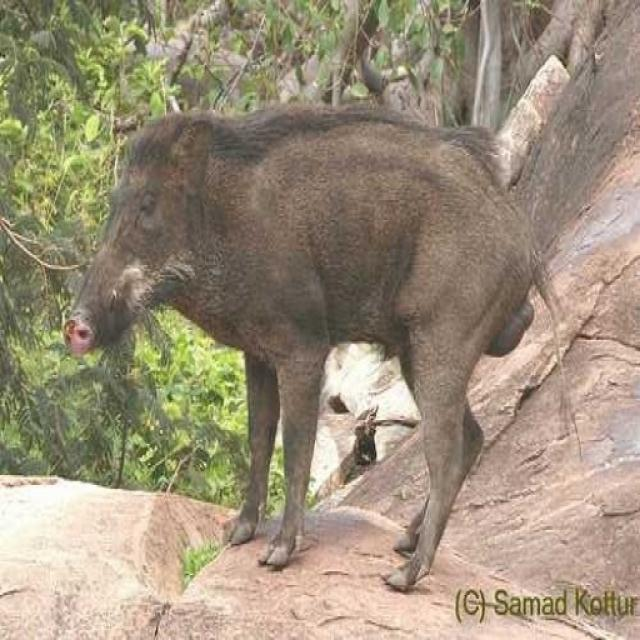pig: (70, 47, 577, 583)
